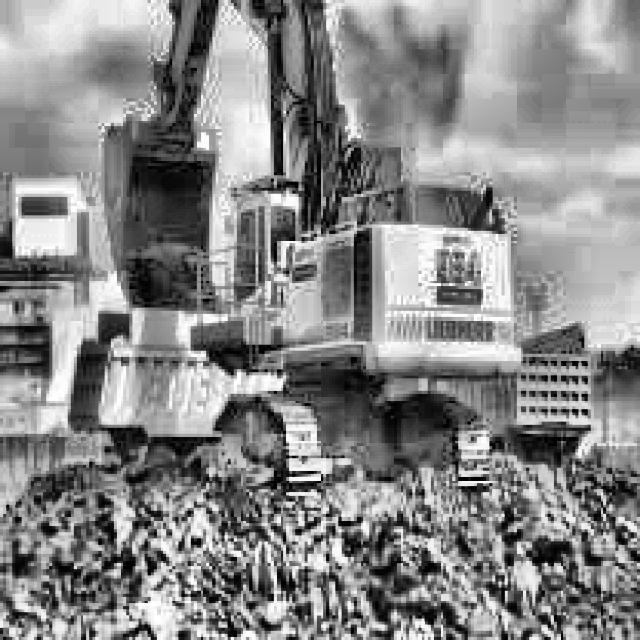dump_truck: (74, 329, 215, 477), (462, 331, 590, 454)
excavator: (95, 0, 511, 505)
